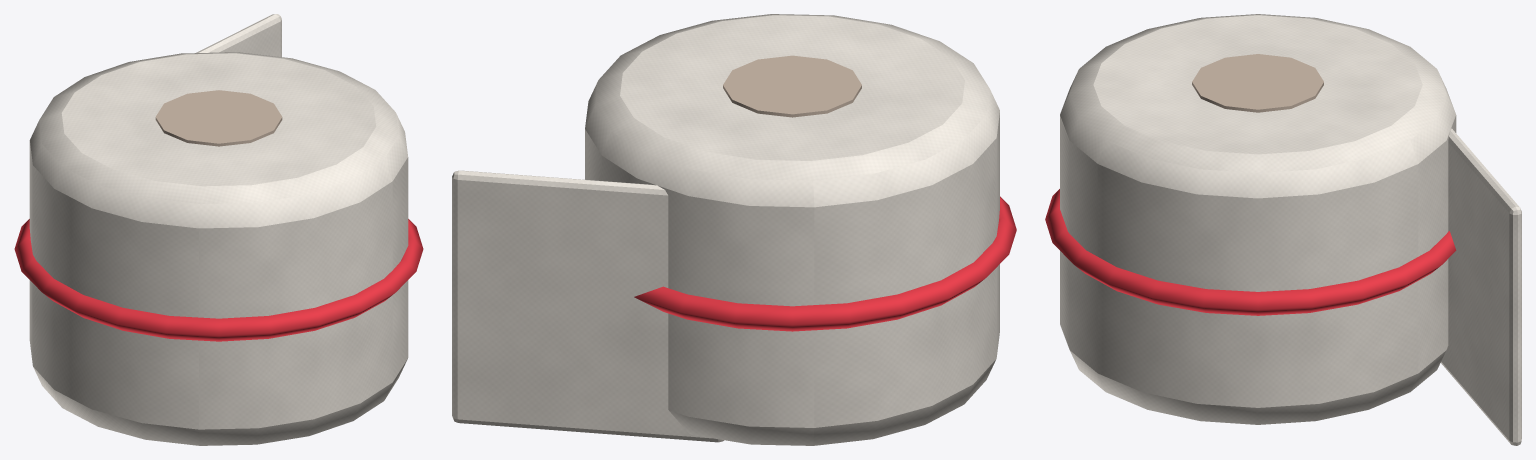
Rendered from item_bandage_roll.glb.
The picture shows the model from 3 angles, left to right: view 1: azimuth 30°, elevation 25°; view 2: azimuth 150°, elevation 25°; view 3: azimuth 270°, elevation 25°; orthographic projection. The views are drawn at different scales.
Visible parts, largest first — view 1: item_bandage_roll; view 2: item_bandage_roll; view 3: item_bandage_roll.
Boxes of the visible parts, box(x1,y1,x2,y2) form: item_bandage_roll: box(14, 14, 423, 445); item_bandage_roll: box(452, 14, 1016, 445); item_bandage_roll: box(1045, 14, 1521, 445).
Size of the model in its own units: 0.1321 by 0.092 by 0.1444.
3 materials, 1 textured.
